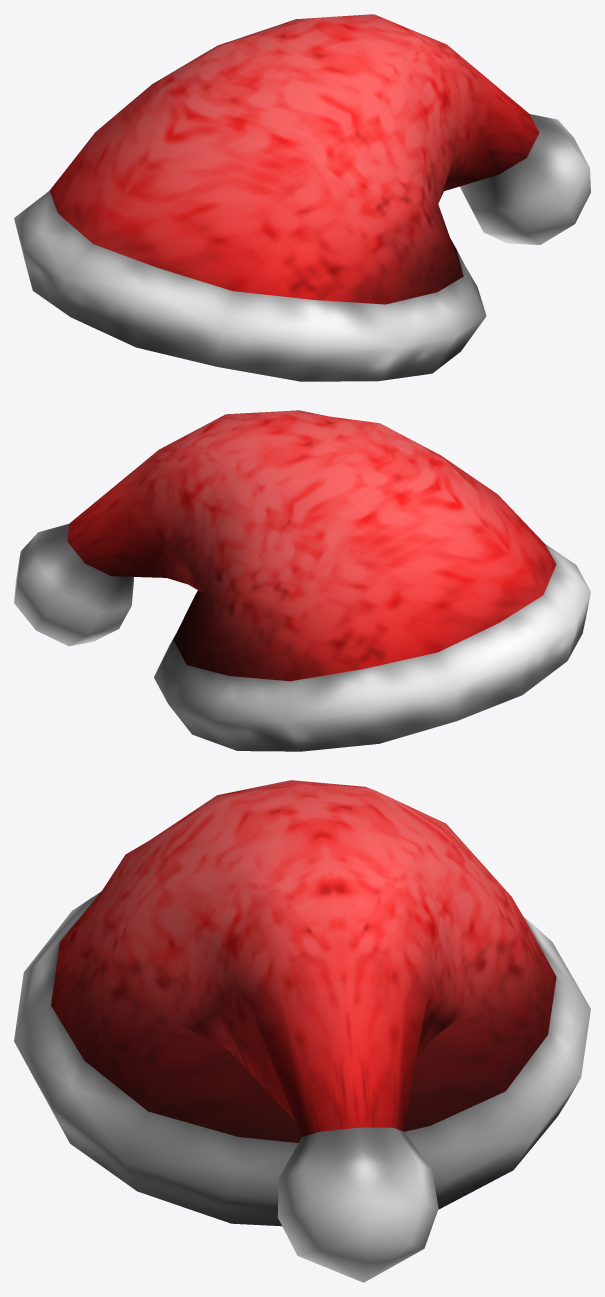
Rendered from MESH_Noel.fbx.
3 renders of one model, top to bottom at view 1: azimuth 30°, elevation 25°; view 2: azimuth 150°, elevation 25°; view 3: azimuth 270°, elevation 25°, orthographic. The views are drawn at different scales.
Parts seen in each view (by area): view 1: MESH_Noel; view 2: MESH_Noel; view 3: MESH_Noel.
Part boxes in pixels (x1,y1,x2,y2): MESH_Noel: (14,14,590,381); MESH_Noel: (14,410,590,751); MESH_Noel: (14,780,590,1282).
Size of the model in its own units: 302 by 152 by 224.
